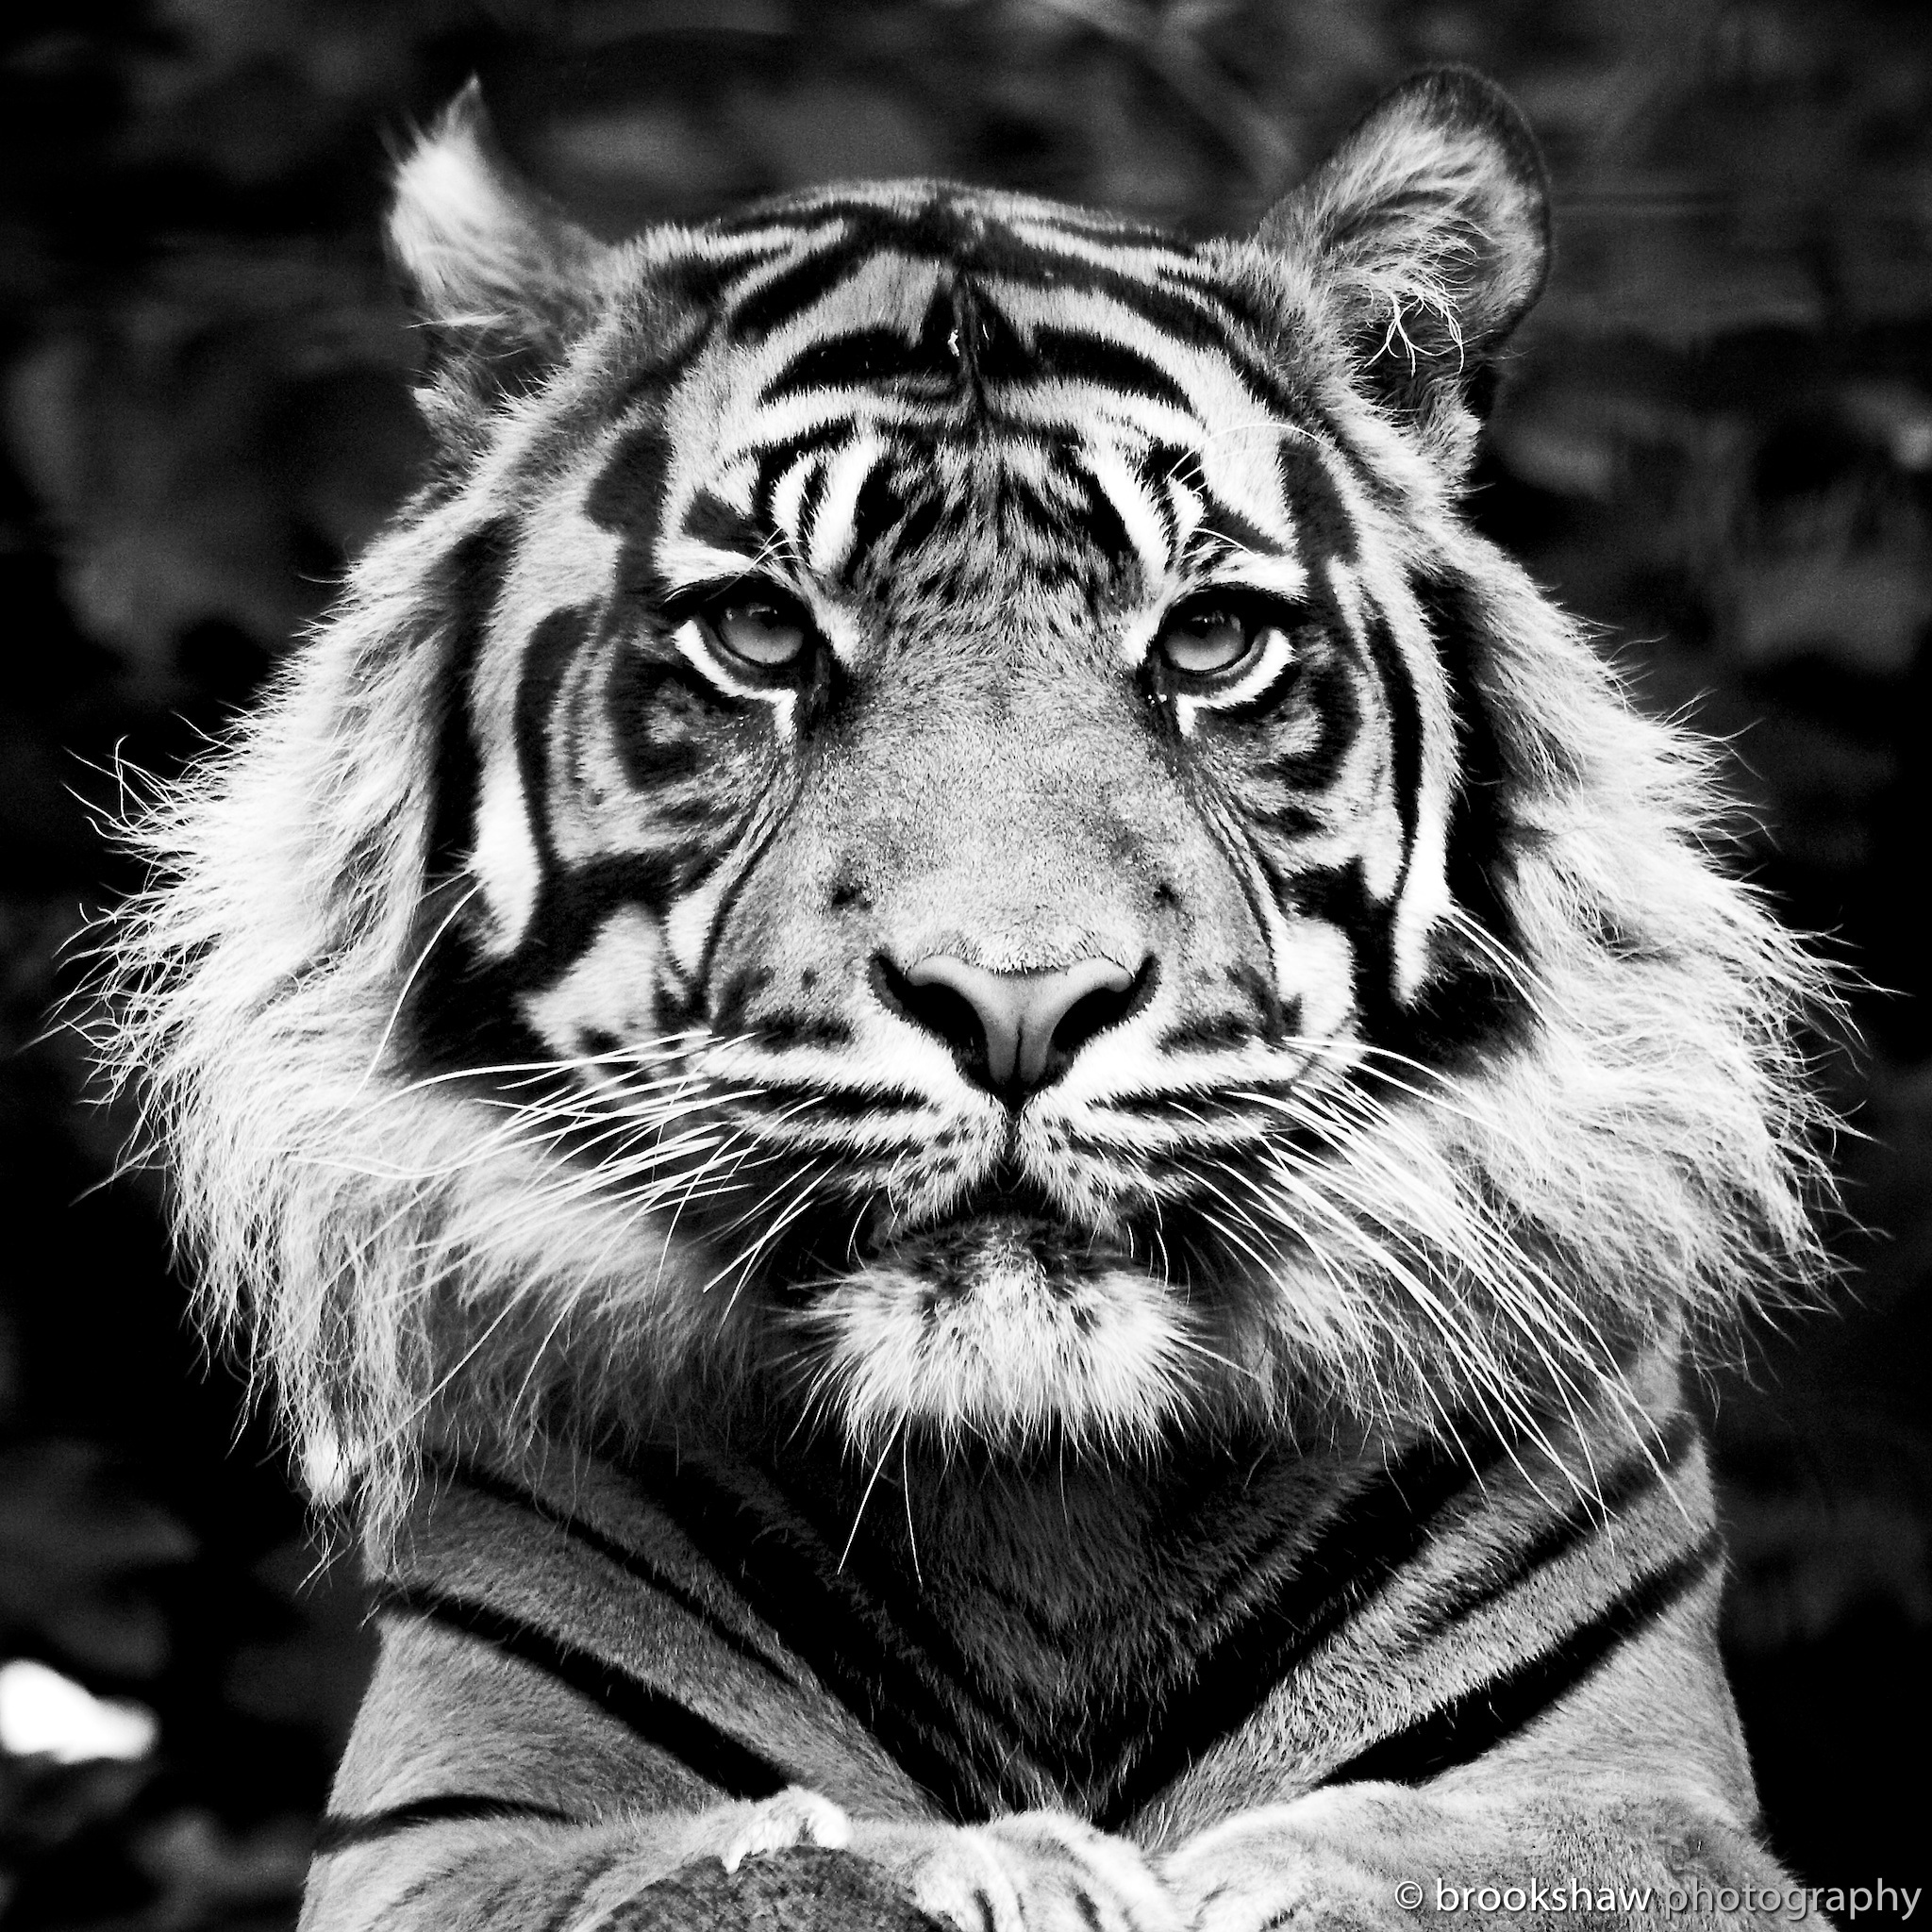tiger: (168, 57, 1840, 1789)
